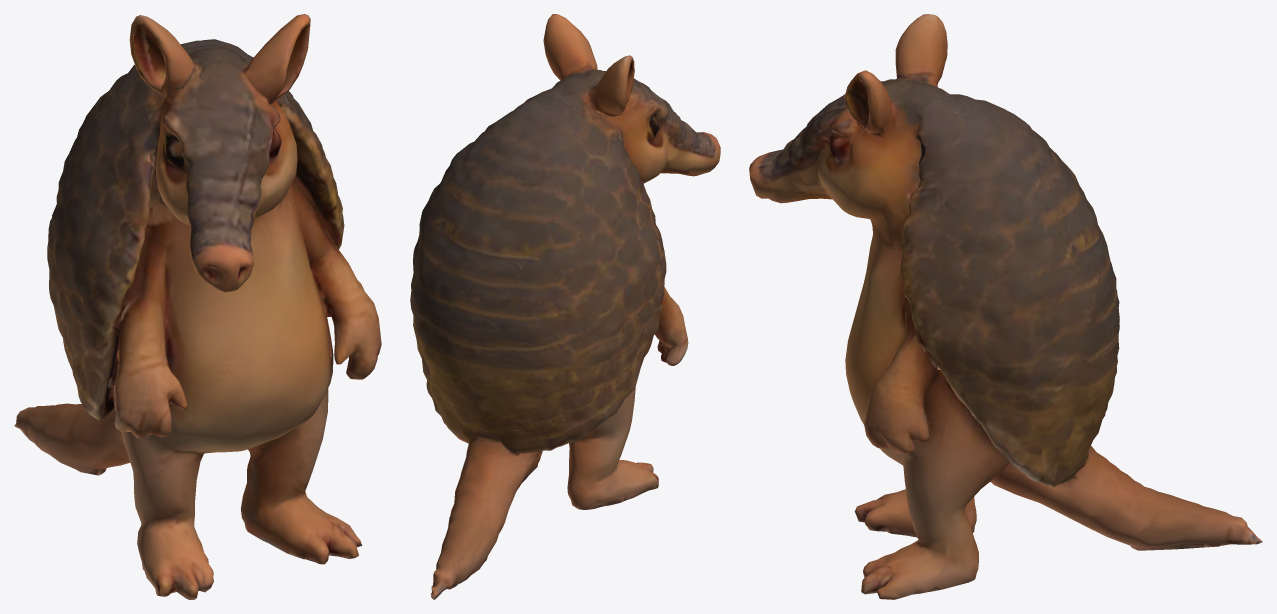
File: mob_armadillo.glb
3 renders of one model, left to right at view 1: azimuth 30°, elevation 25°; view 2: azimuth 150°, elevation 25°; view 3: azimuth 270°, elevation 25°, orthographic. The views are drawn at different scales.
Parts seen in each view (by area): view 1: geometry_0; view 2: geometry_0; view 3: geometry_0.
Part boxes in pixels (x1,y1,x2,y2): geometry_0: [14, 14, 381, 599]; geometry_0: [410, 14, 720, 599]; geometry_0: [749, 14, 1262, 599].
Bounding box in the file's own units: 0.8944 × 1.78 × 1.65.
1 material, 1 textured.
